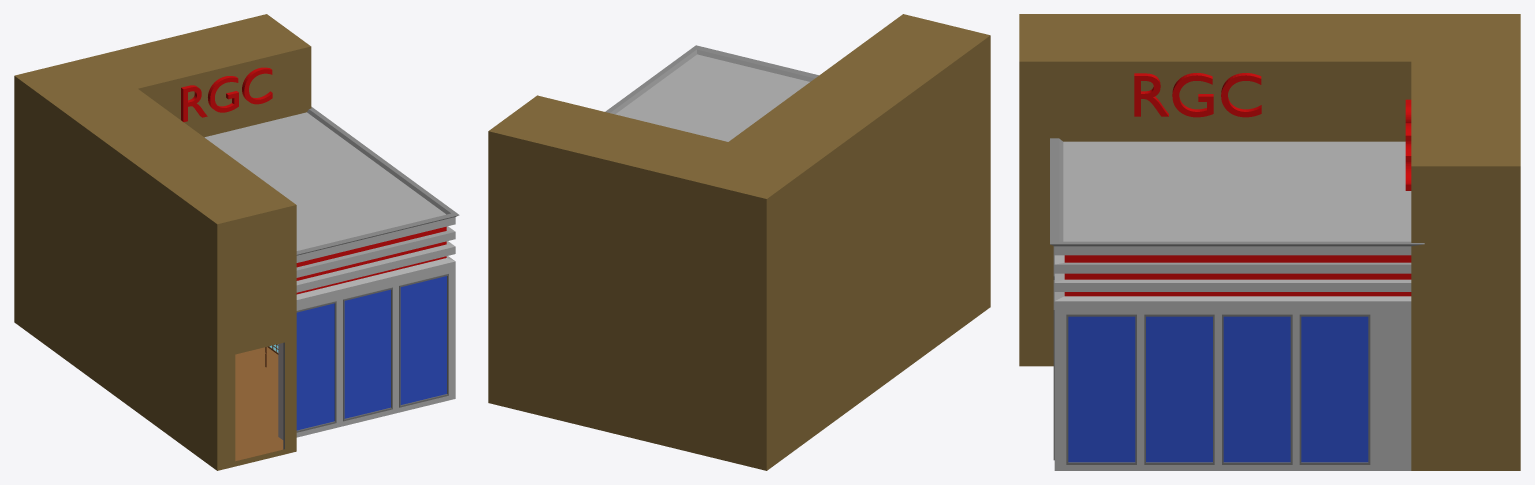
File: GFC Building.fbx
The picture shows the model from 3 angles, left to right: view 1: azimuth 30°, elevation 25°; view 2: azimuth 150°, elevation 25°; view 3: azimuth 270°, elevation 25°; orthographic projection. The views are drawn at different scales.
Visible parts, largest first — view 1: Exterior Building\, WIndow_3, WIndow_2, Interior Building, WIndow_1, RGC_1; view 2: Exterior Building\; view 3: Exterior Building\, Window_7, Window_6, WIndow_5, WIndow_4, RGC_2, RGC_1.
Boxes of the visible parts, x1,y1,x2,y2 form: Exterior Building\: (14,14,459,470); WIndow_3: (399,273,448,407); WIndow_2: (343,287,392,421); Interior Building: (235,343,283,461); WIndow_1: (296,301,336,432); RGC_1: (181,67,272,122); Exterior Building\: (488,14,990,470); Exterior Building\: (1019,14,1520,470); Window_7: (1299,314,1370,464); Window_6: (1222,314,1292,464); WIndow_5: (1144,314,1214,464); WIndow_4: (1066,314,1136,464); RGC_2: (1134,73,1261,117); RGC_1: (1405,99,1411,190).
Bounding box in the file's own units: 1029 × 952 × 1420.
